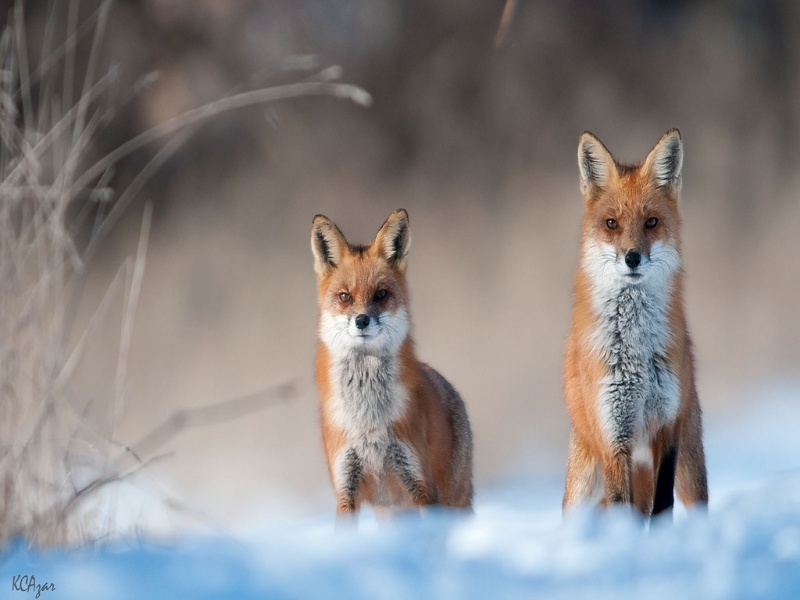fox: (562, 123, 711, 533), (308, 208, 475, 532)
